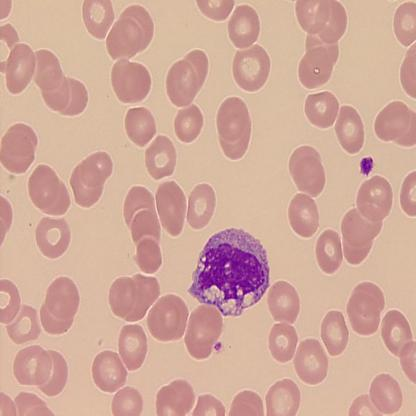Atypical lymphocyte: (190, 225, 272, 315)
